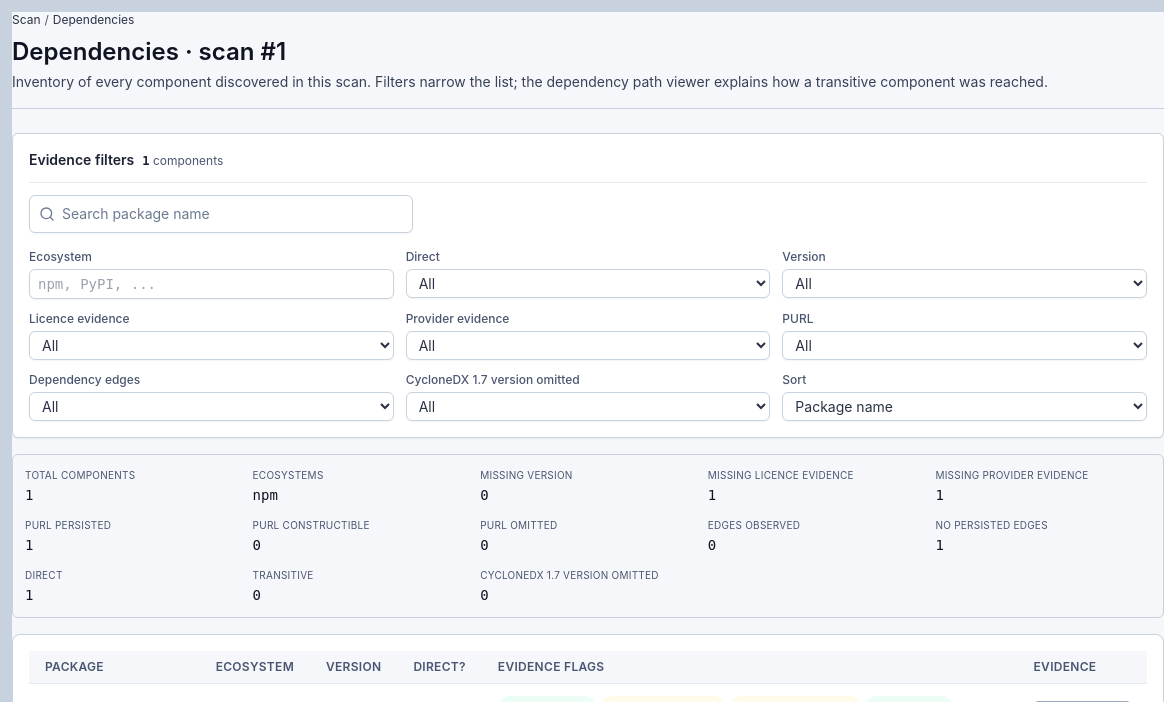
v0.9 evidence-aware search and filtering › Clear button appears when Licence evidence filter is set to Missing
Select "Missing" in the dropdown labelled "Licence evidence" at (211, 346), box [29,331,394,360]
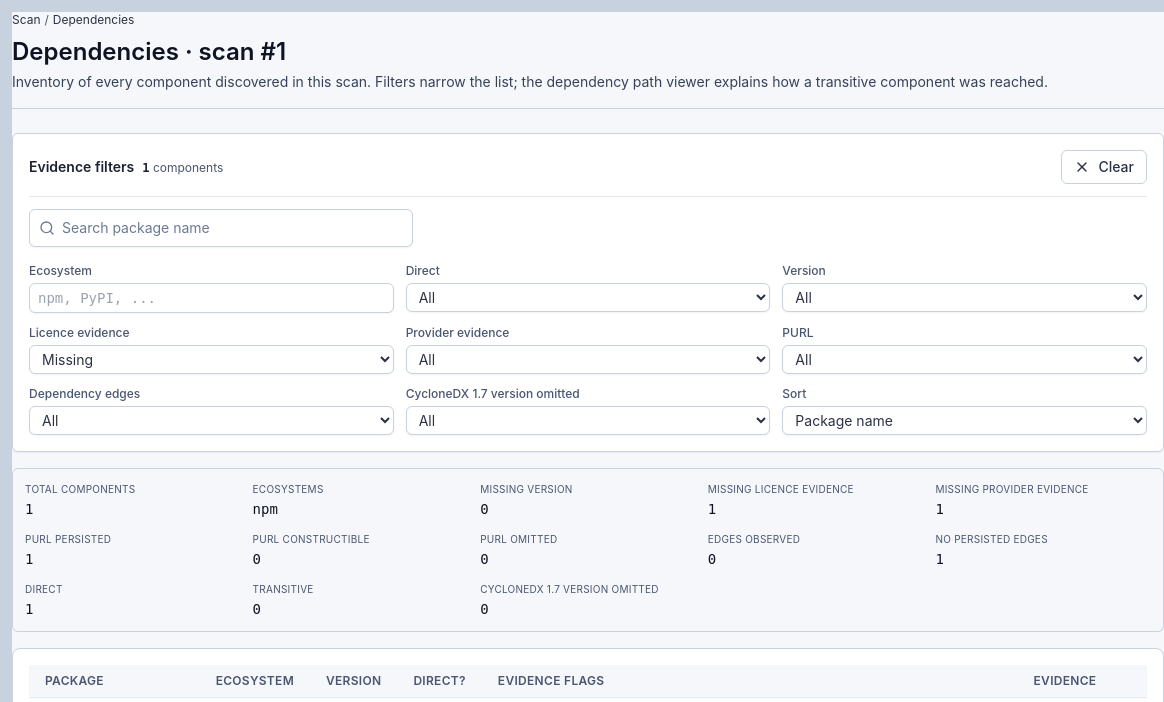
Check: the button with test id "filterbar-clear" is shown, box [1062,150,1147,184]
